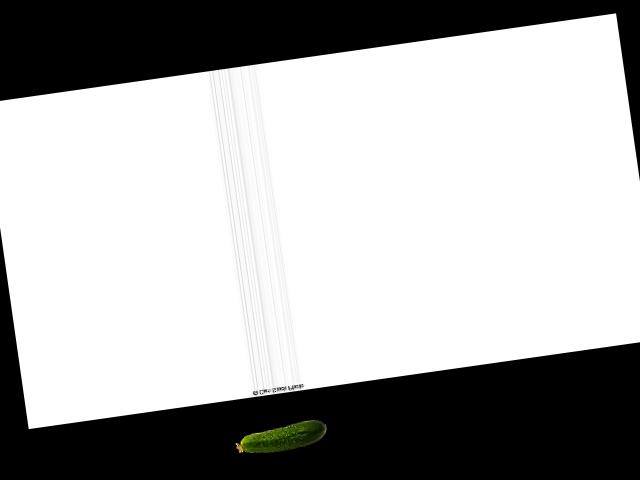cucumber: (234, 418, 329, 457)
